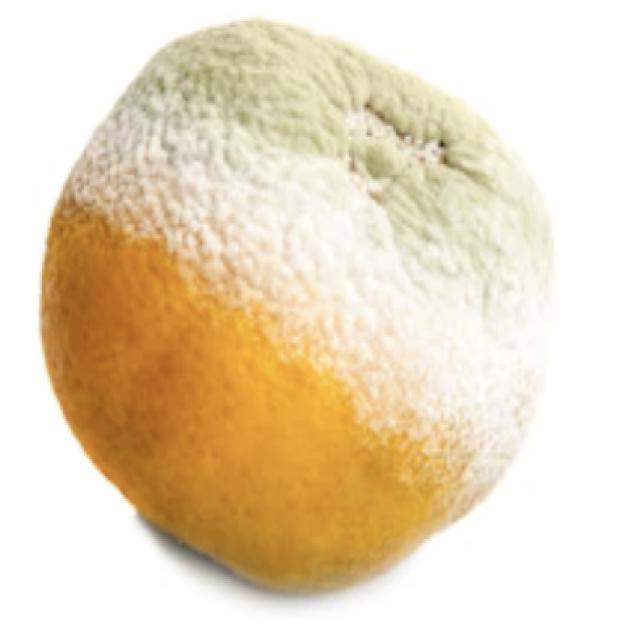rotten-orange: (36, 18, 554, 595)
